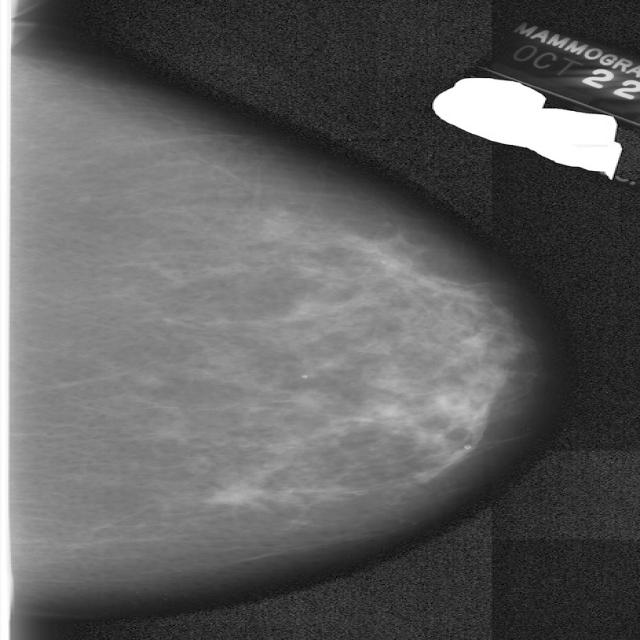tumour: (205, 482, 263, 508)
